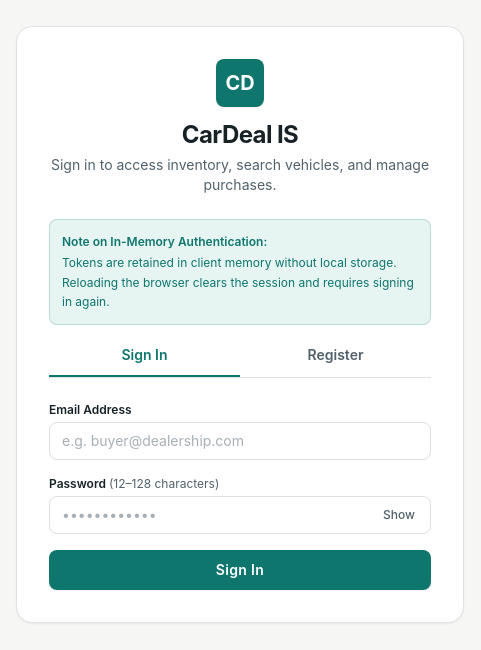
Test: Frontend App Integration › validates password length bounds on login form submission
The width and height of the screenshot is (481, 650).
In the field labelled "Email Address": point(240, 440) [49, 422, 431, 460], type "test@cardeal.com"
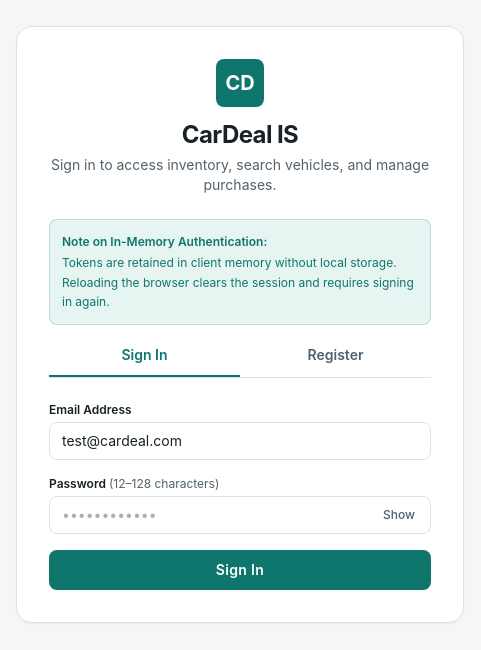
In the password field with placeholder "••••••••••••": point(240, 514) [49, 496, 431, 534], type "short"
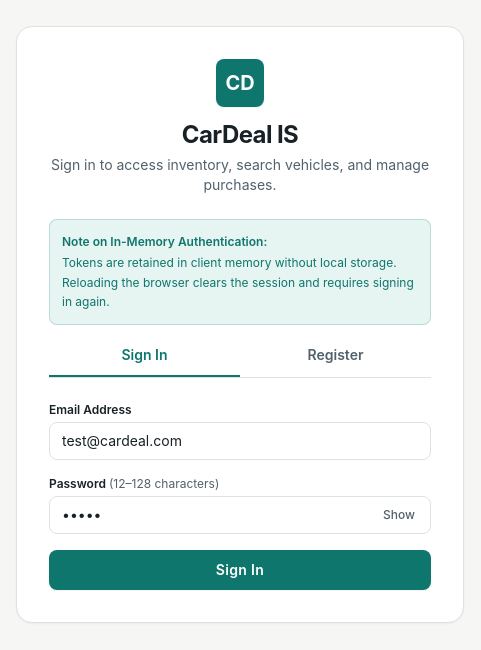
Click the button "Sign In": point(240, 570) [49, 550, 431, 590]
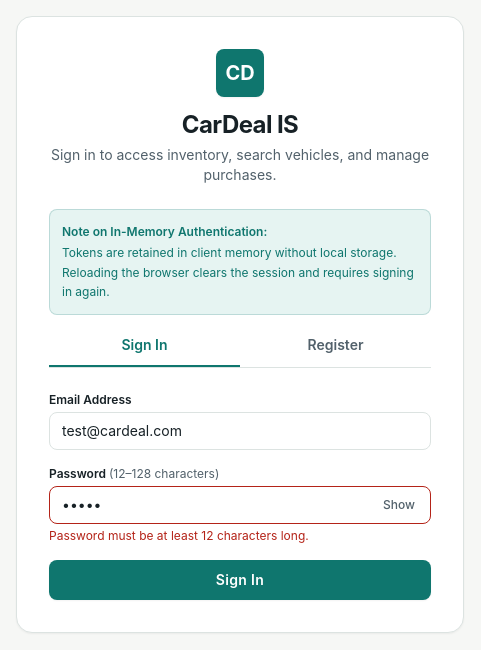
Now the text "Password must be at least 12 characters long." is shown, box [49, 528, 309, 542]
